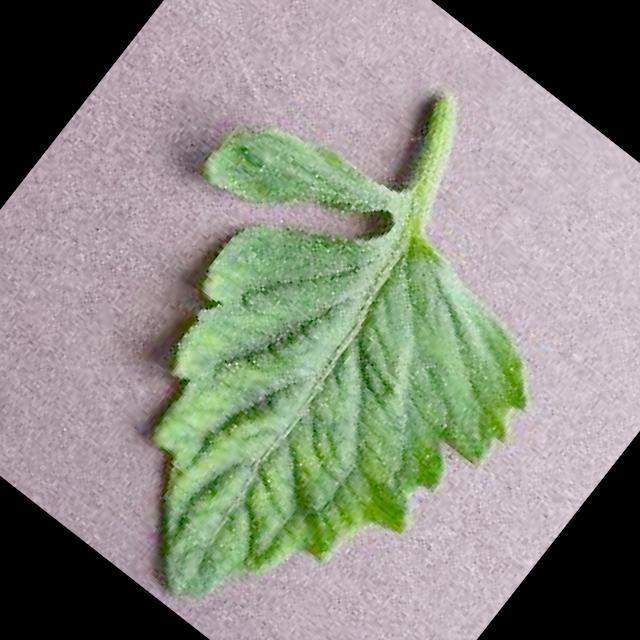Tomato mosaic virus leaf: (31, 146, 569, 640)
